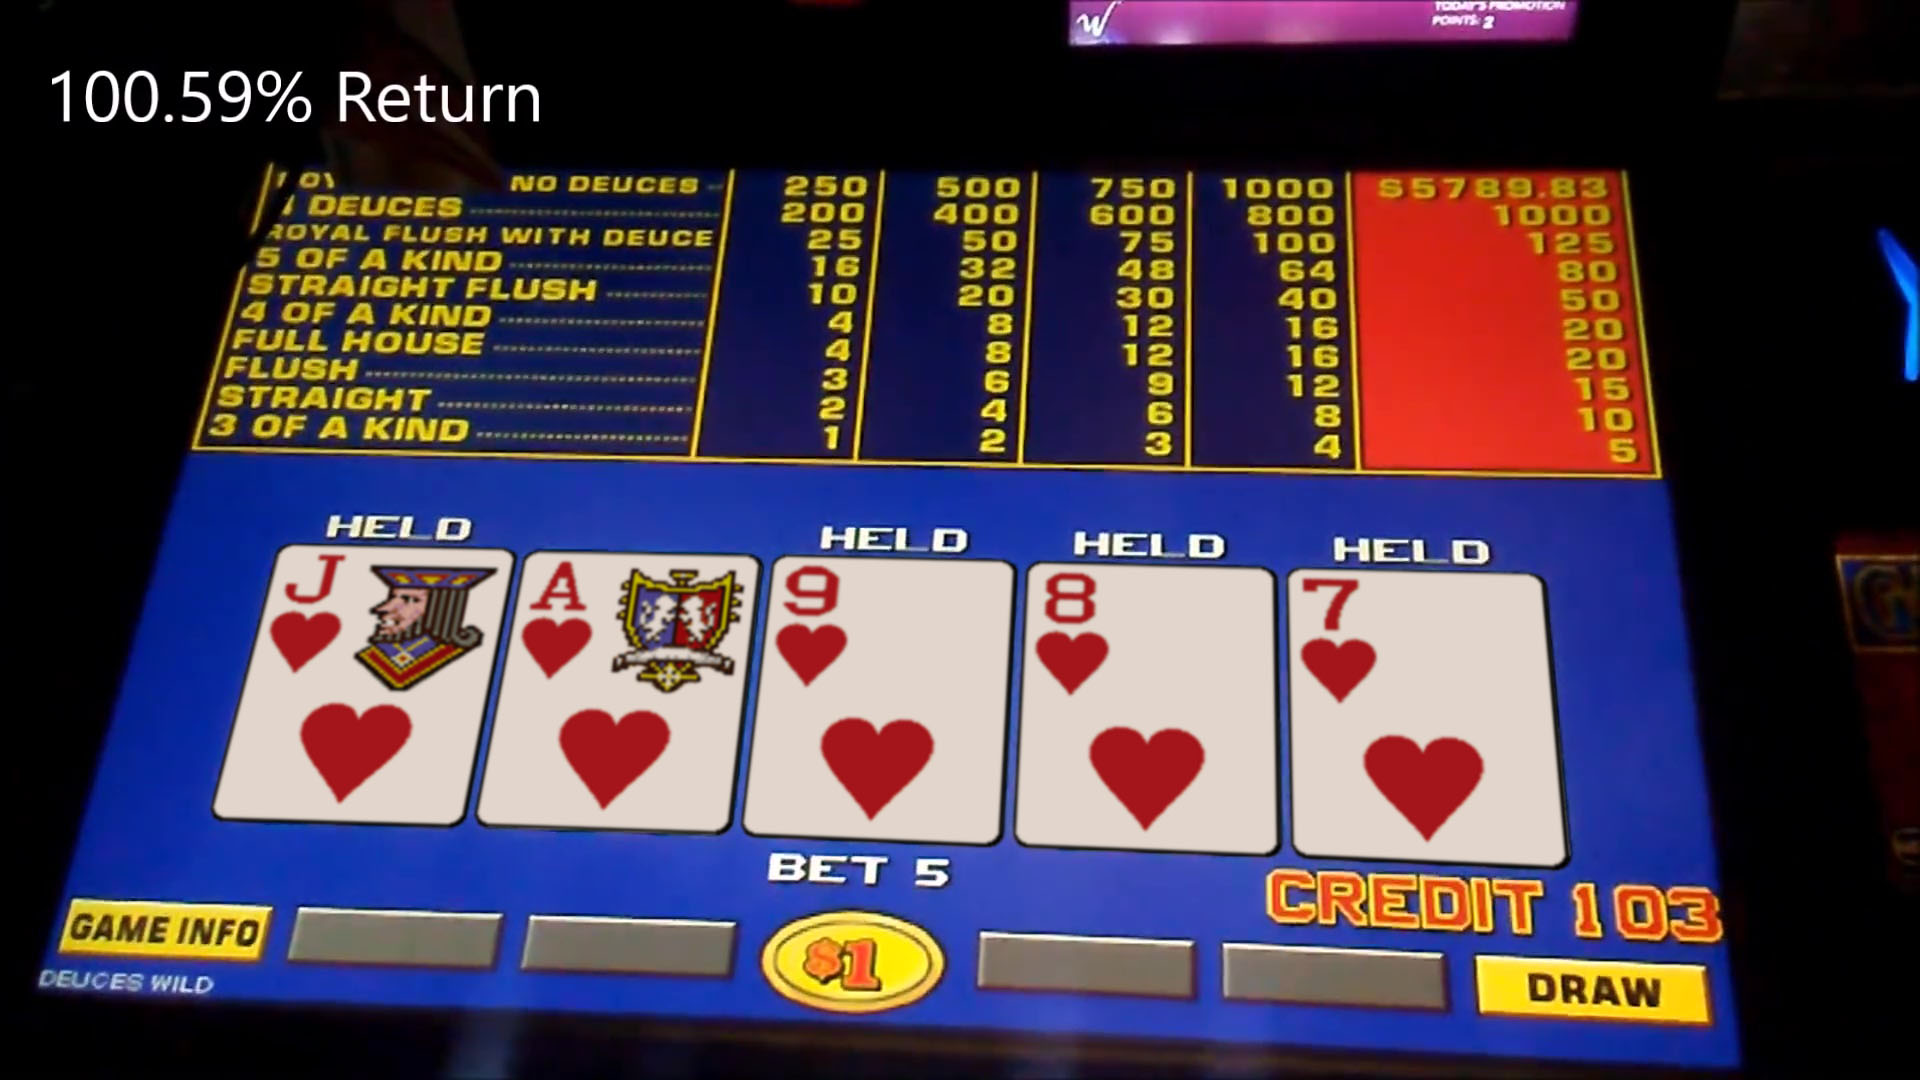H7: (1294, 575, 1553, 855)
H8: (1029, 564, 1270, 853)
H9: (771, 558, 997, 843)
HA: (522, 553, 735, 828)
HJ: (265, 549, 472, 819)
